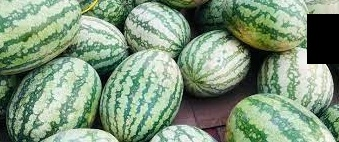watermelon: (102, 48, 186, 133), (12, 59, 99, 141), (255, 48, 334, 117), (182, 30, 249, 100), (127, 2, 192, 53)
